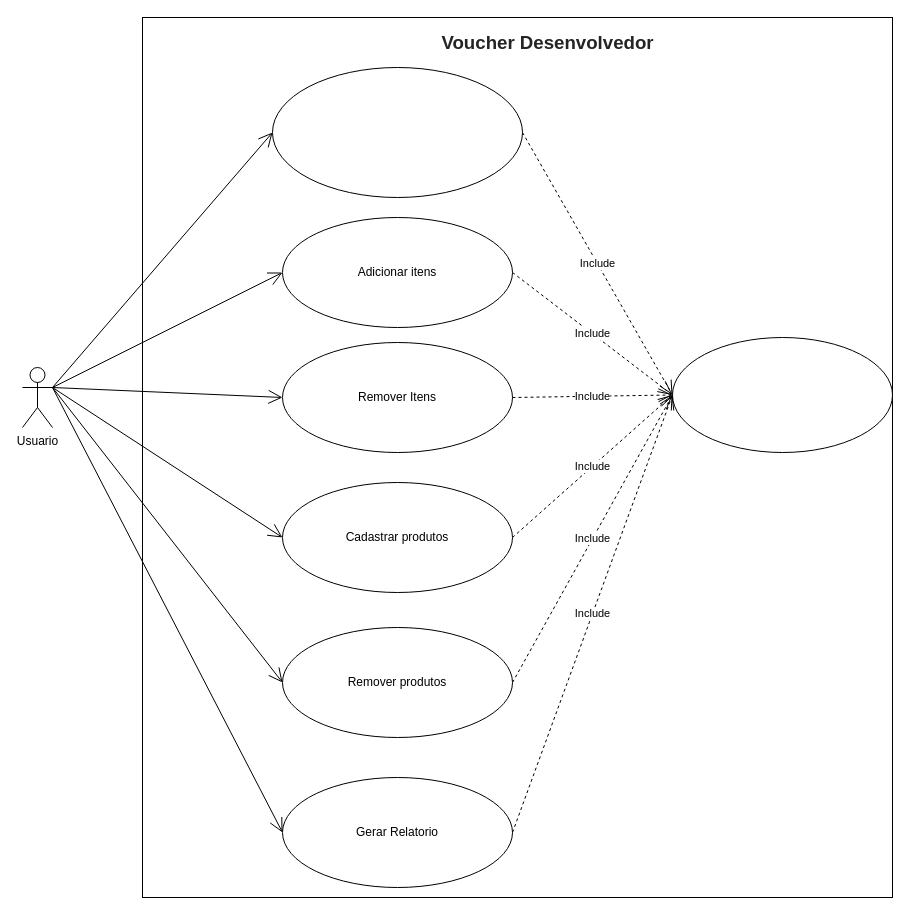
This 910x915 diagram has some shape labels left out. Here are the shapes that lost their labels. From the top down, the centre of each, then its label:
At (397,132): "Consultar Produtos".
At (782,394): "Atualizar estoque".
